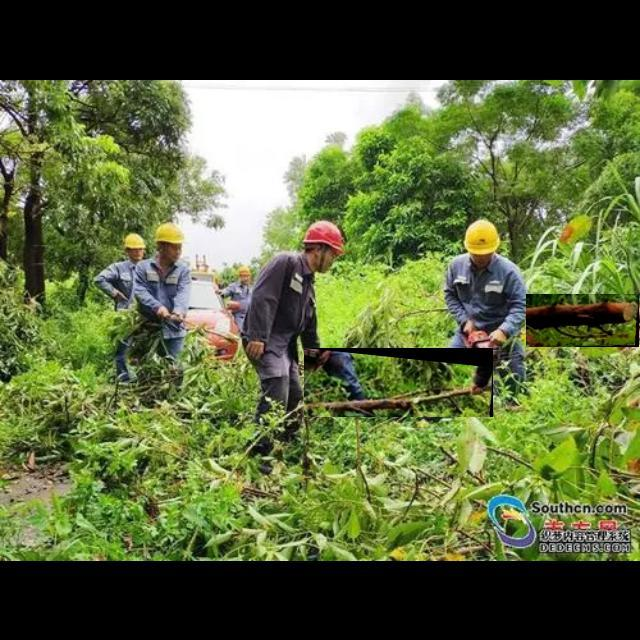fallen_tree: (304, 348, 494, 418), (526, 294, 640, 348), (527, 295, 639, 337)
